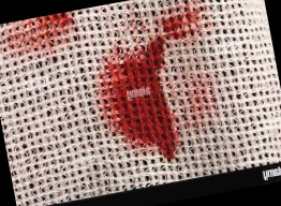blood: (92, 40, 183, 167), (26, 12, 80, 49), (159, 7, 203, 45)
